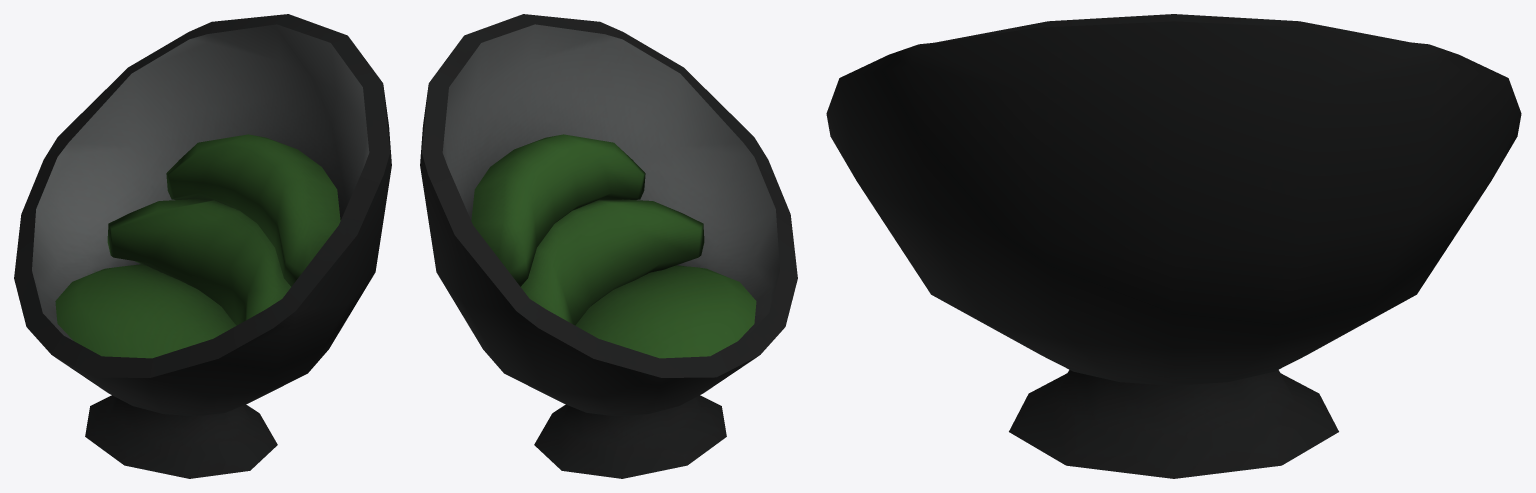
The model's file is Amphi100_Chair02_shadow.FBX.
3 views of the same model, side by side, from view 1: azimuth 30°, elevation 25°; view 2: azimuth 150°, elevation 25°; view 3: azimuth 270°, elevation 25° (orthographic). The views are drawn at different scales.
Visible parts, largest first — view 1: Amphi100_Chair01; view 2: Amphi100_Chair01; view 3: Amphi100_Chair01.
Part boxes in pixels (box(x1,y1,x2,y2)): Amphi100_Chair01: box(14, 14, 391, 478); Amphi100_Chair01: box(420, 14, 797, 478); Amphi100_Chair01: box(826, 14, 1521, 478).
Size of the model in its own units: 0.9259 by 1.04 by 1.26.
